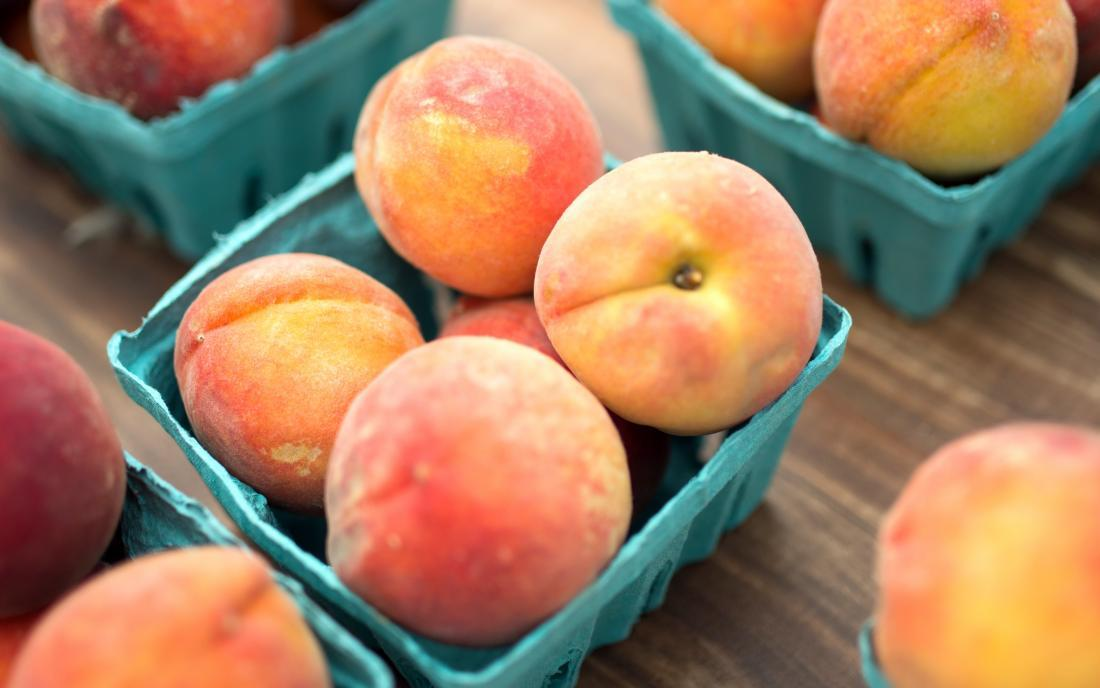Peach Ripe: (326, 337, 630, 640), (534, 152, 821, 435), (354, 37, 604, 296)
